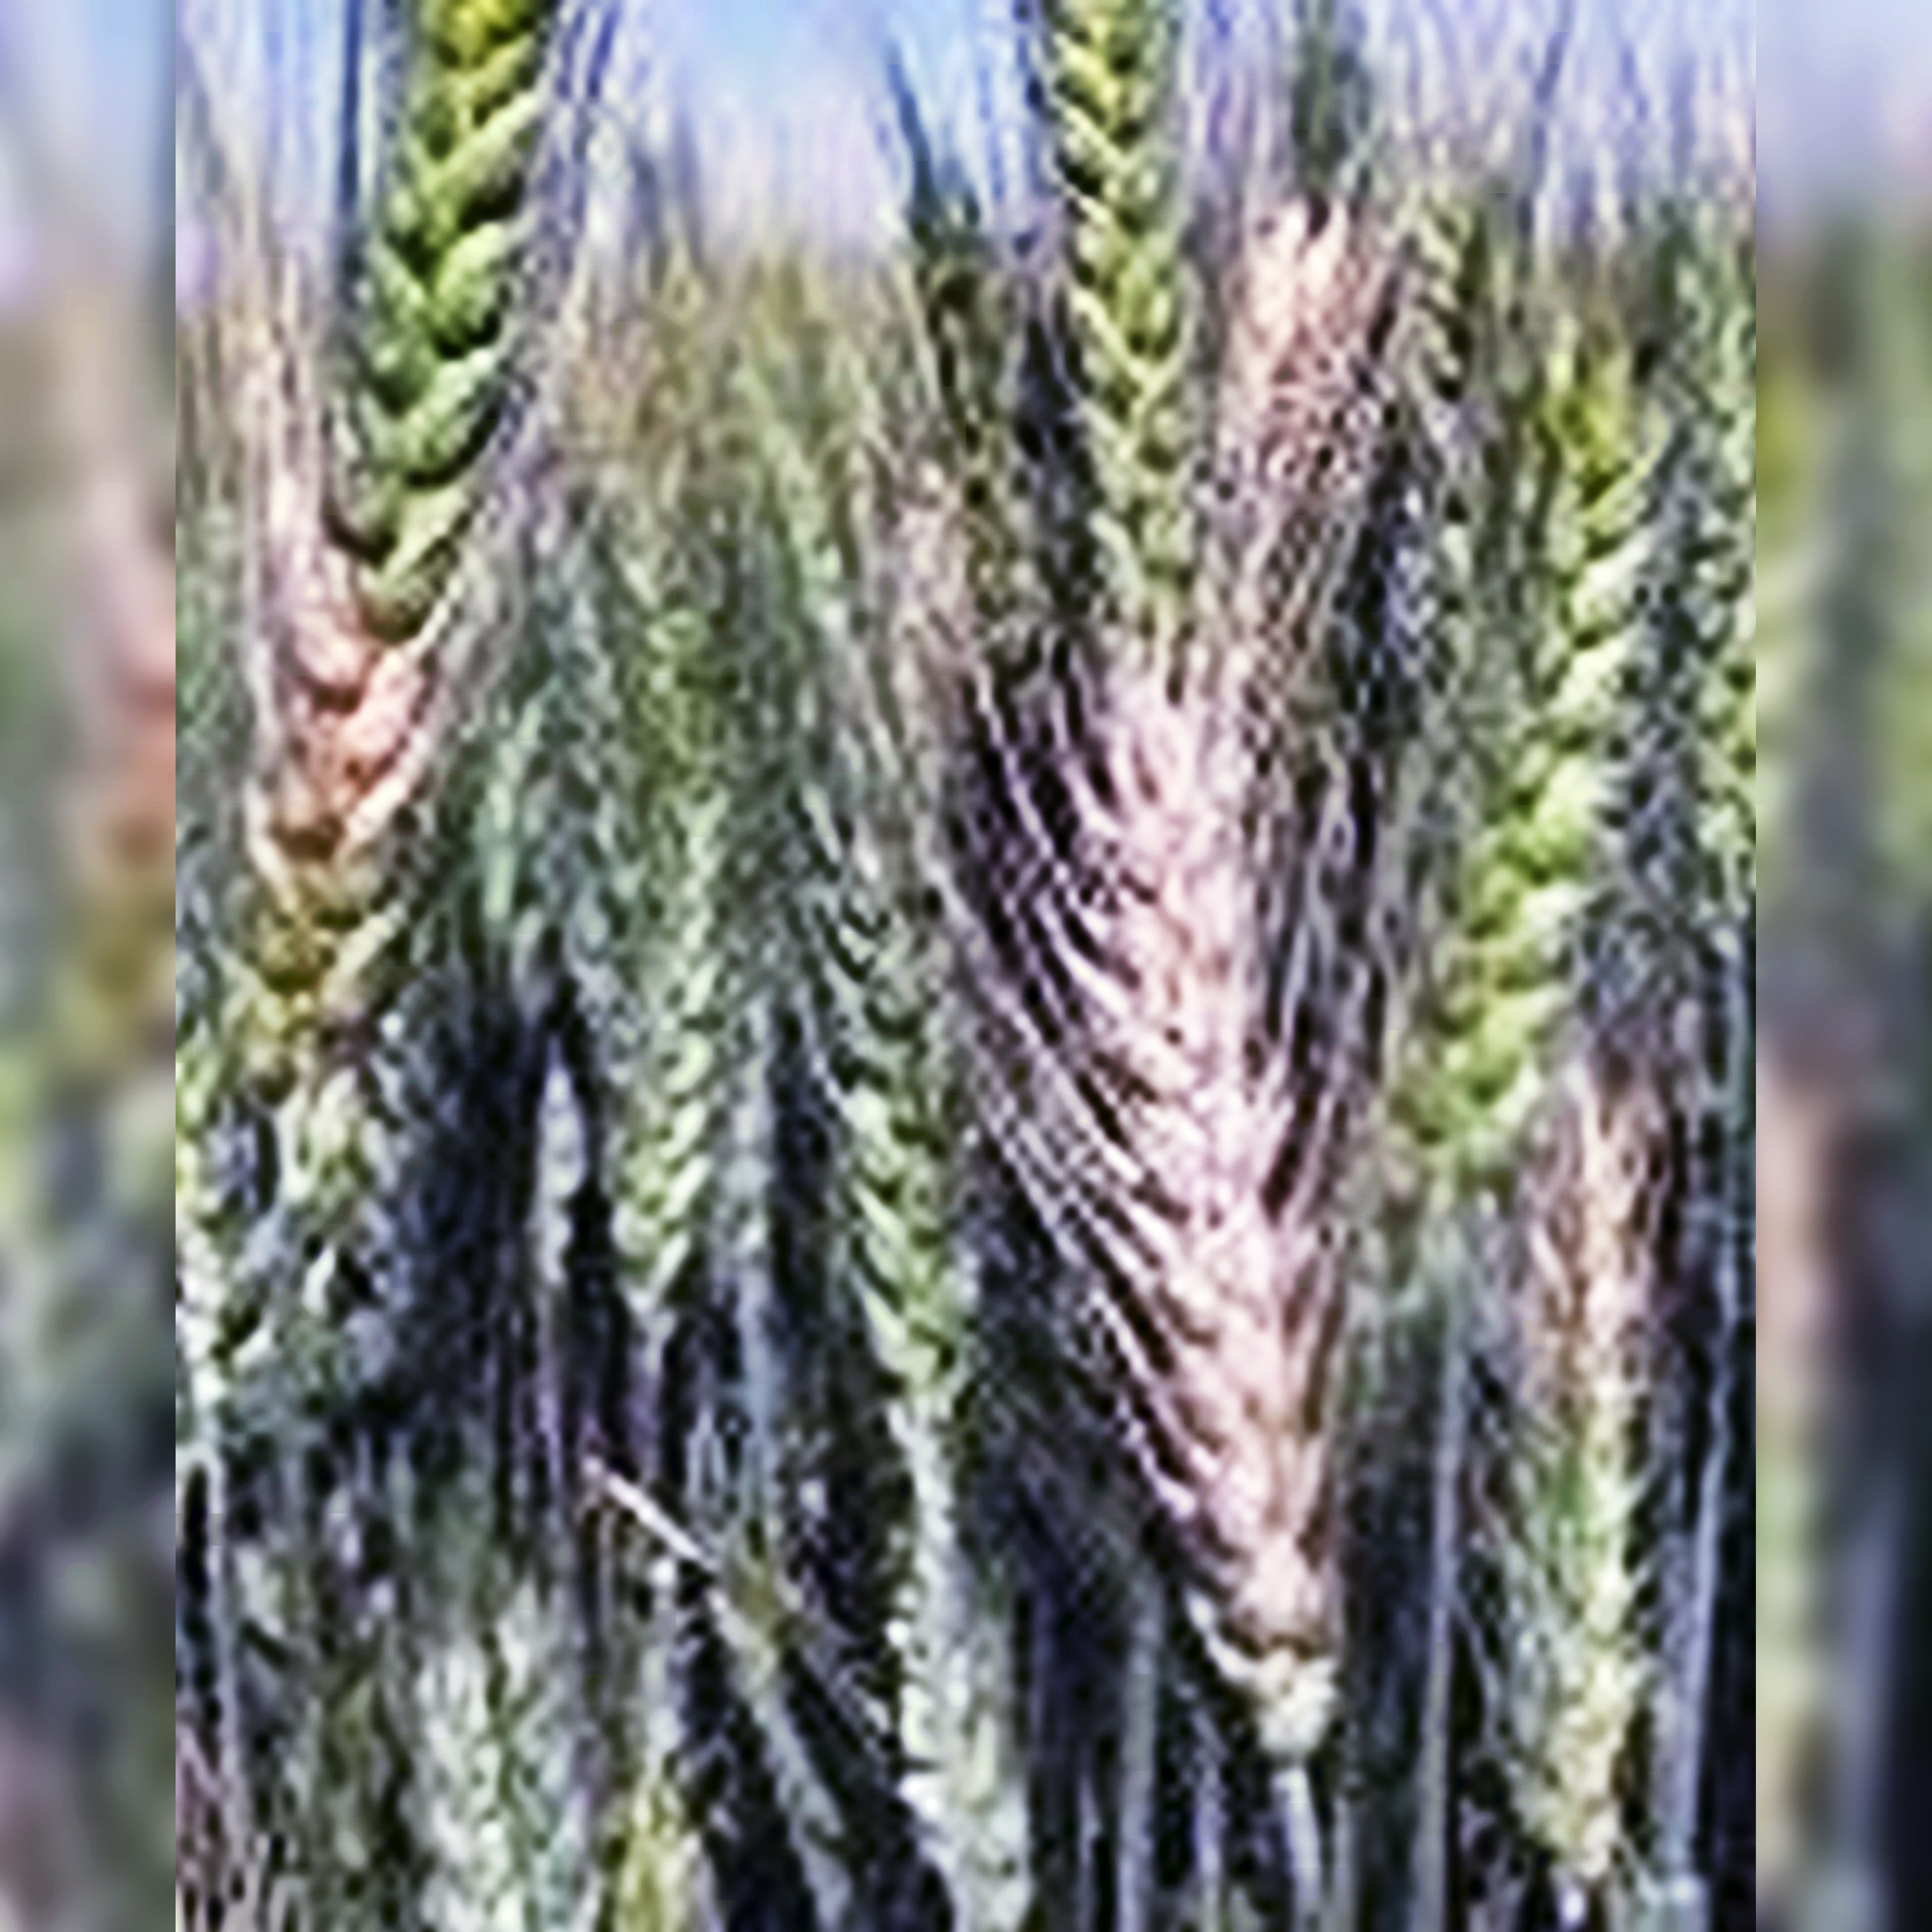Wheat scab: (1076, 690, 1373, 1674)
